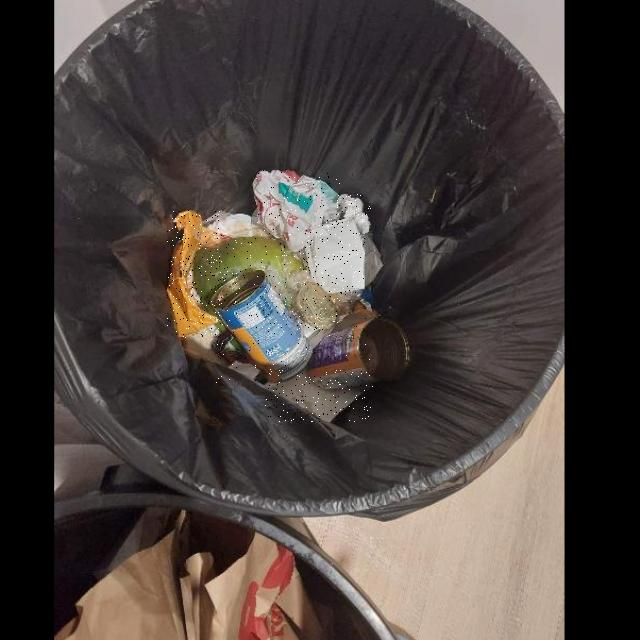biowaste: (194, 238, 312, 334)
metal: (212, 270, 313, 383), (307, 318, 409, 389), (295, 282, 340, 330)
paper: (252, 171, 341, 253), (265, 370, 373, 423), (305, 218, 365, 295), (336, 194, 371, 234)
wrapper: (168, 211, 222, 338)
